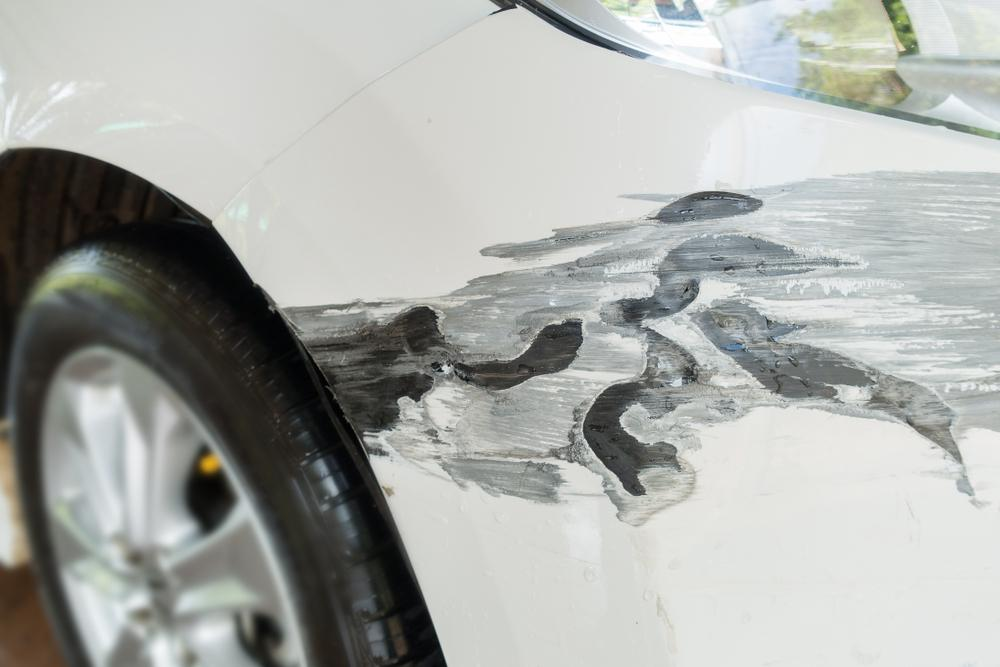scratch: (269, 166, 1000, 536)
